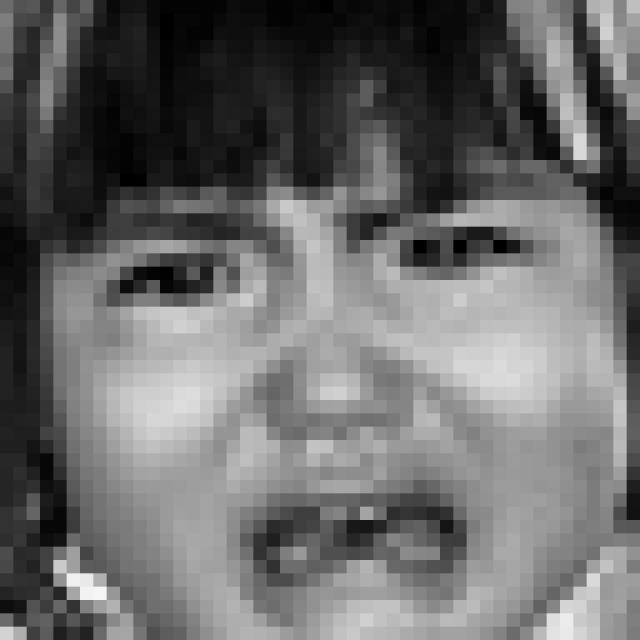sad: (74, 160, 568, 629)
